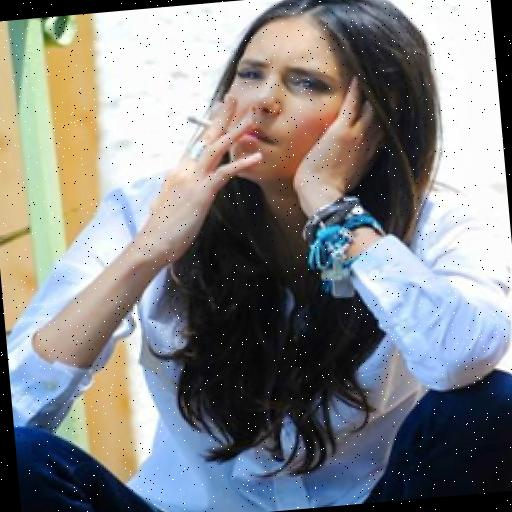terdeteksi merokok: (172, 56, 284, 204)
